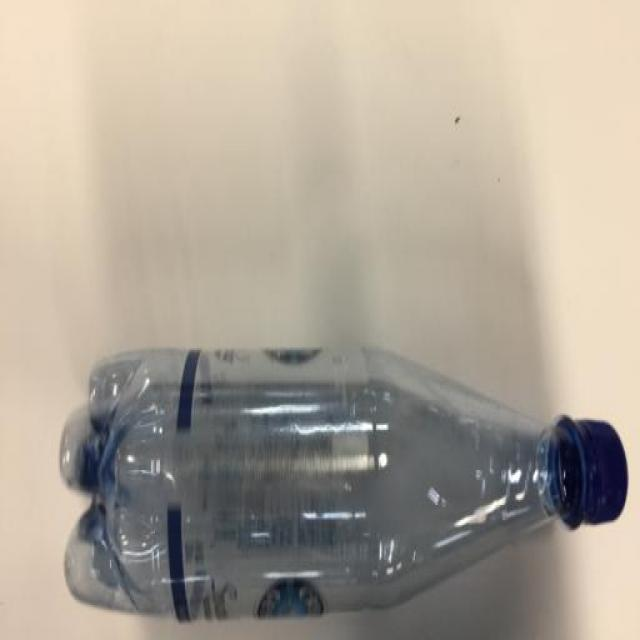plastic_bottle: (40, 334, 640, 640)
